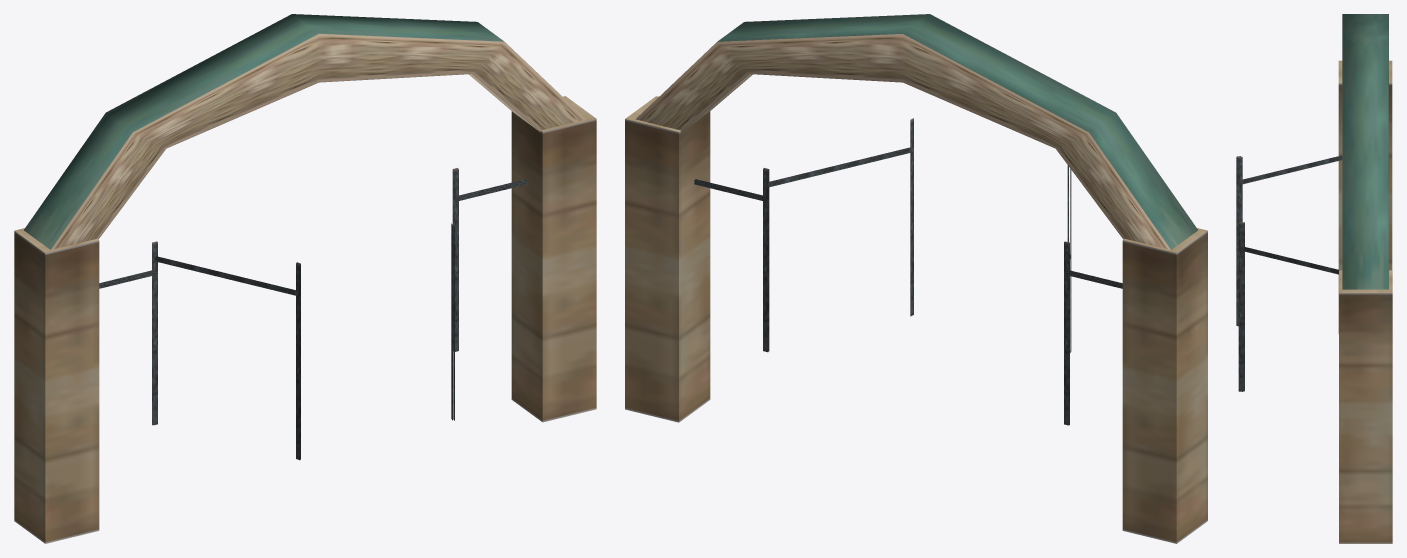
File: thm_nboo_imprv_wide_gate_s02_l3.fbx
The picture shows the model from 3 angles, left to right: view 1: azimuth 30°, elevation 25°; view 2: azimuth 150°, elevation 25°; view 3: azimuth 270°, elevation 25°; orthographic projection. The views are drawn at different scales.
Visible parts, largest first — view 1: mesh_node; view 2: mesh_node; view 3: mesh_node.
Boxes of the visible parts, x1,y1,x2,y2 form: mesh_node: [14, 14, 596, 543]; mesh_node: [625, 14, 1207, 543]; mesh_node: [1236, 14, 1392, 543].
Bounding box in the file's own units: 14.93 × 11.42 × 4.25.
Materials: 1 (1 with a texture image).
